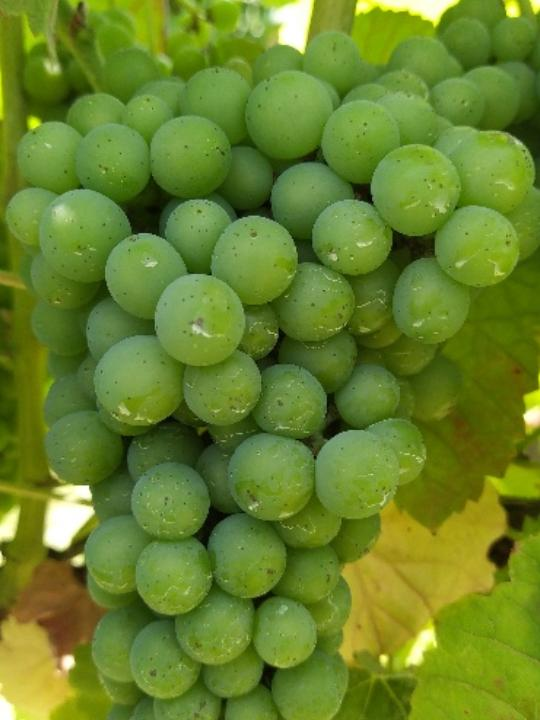grape: (7, 33, 540, 720)
